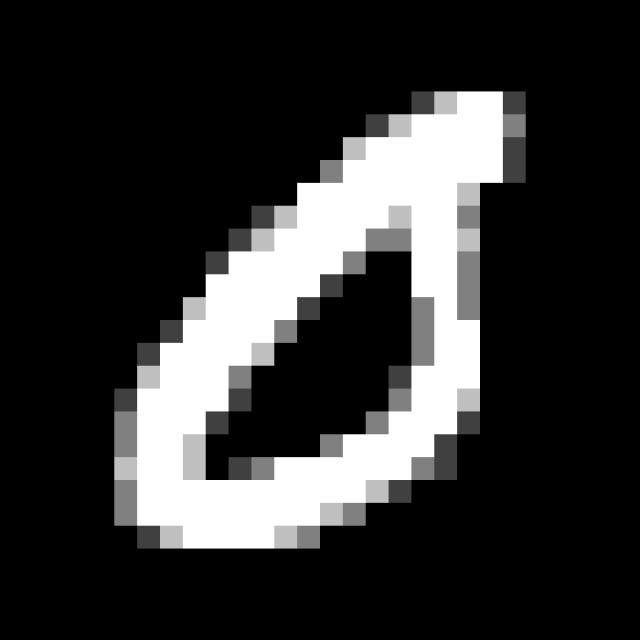zero -0-: (91, 69, 532, 564)
